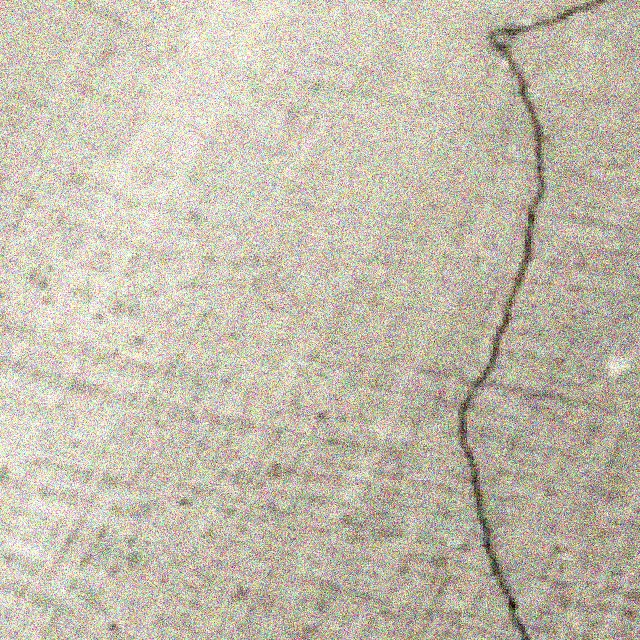SurfaceCrack: (434, 0, 594, 640)
